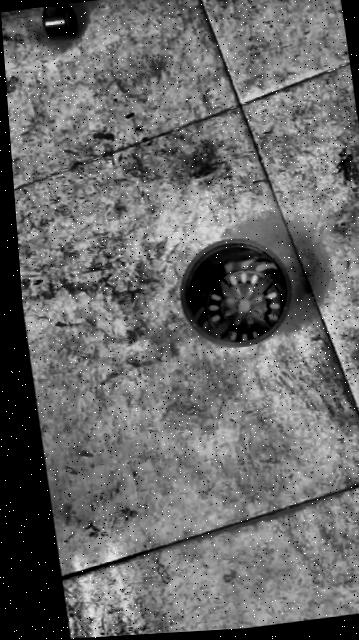pot: (172, 232, 298, 353)
